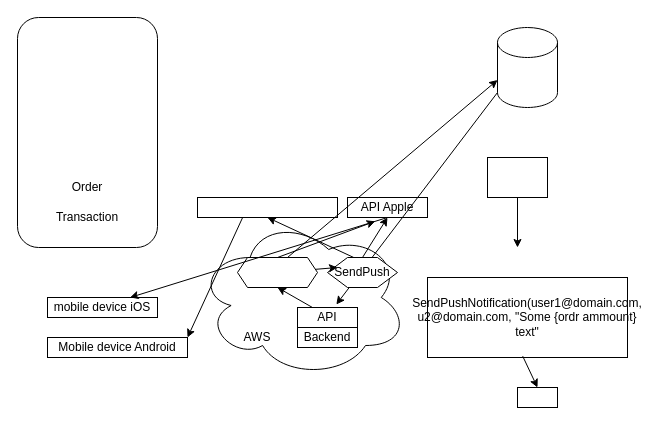
Some shapes in this 660 by 425 pixel diagram are drawn without their labels. Here are the shapes that lost their labels. From the top down, the centre of each, then its label:
the point at 517,177: start
the point at 267,207: Firebase Android
the point at 277,272: MicroPush
the point at 537,397: finish
